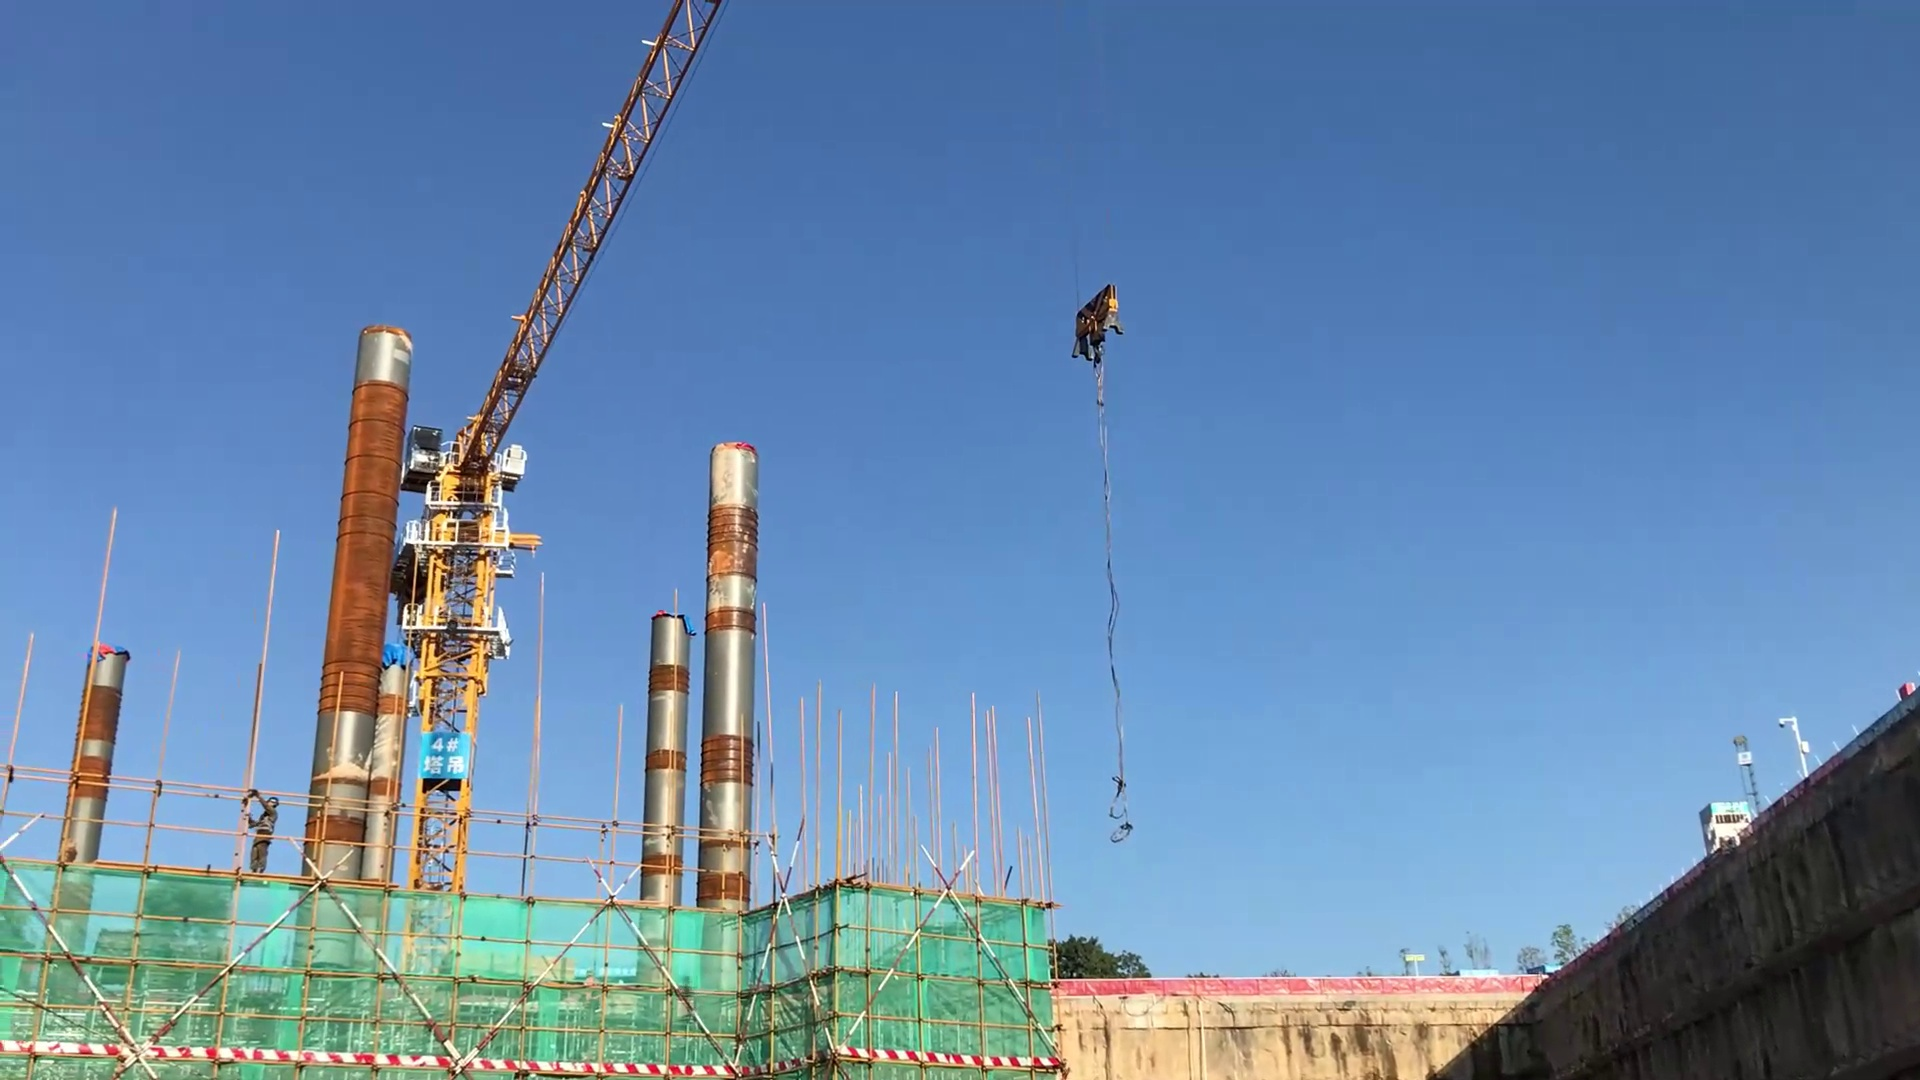helmet: (266, 793, 277, 805)
hook: (1068, 284, 1126, 366)
person: (238, 781, 285, 882)
vest: (252, 812, 280, 838)
